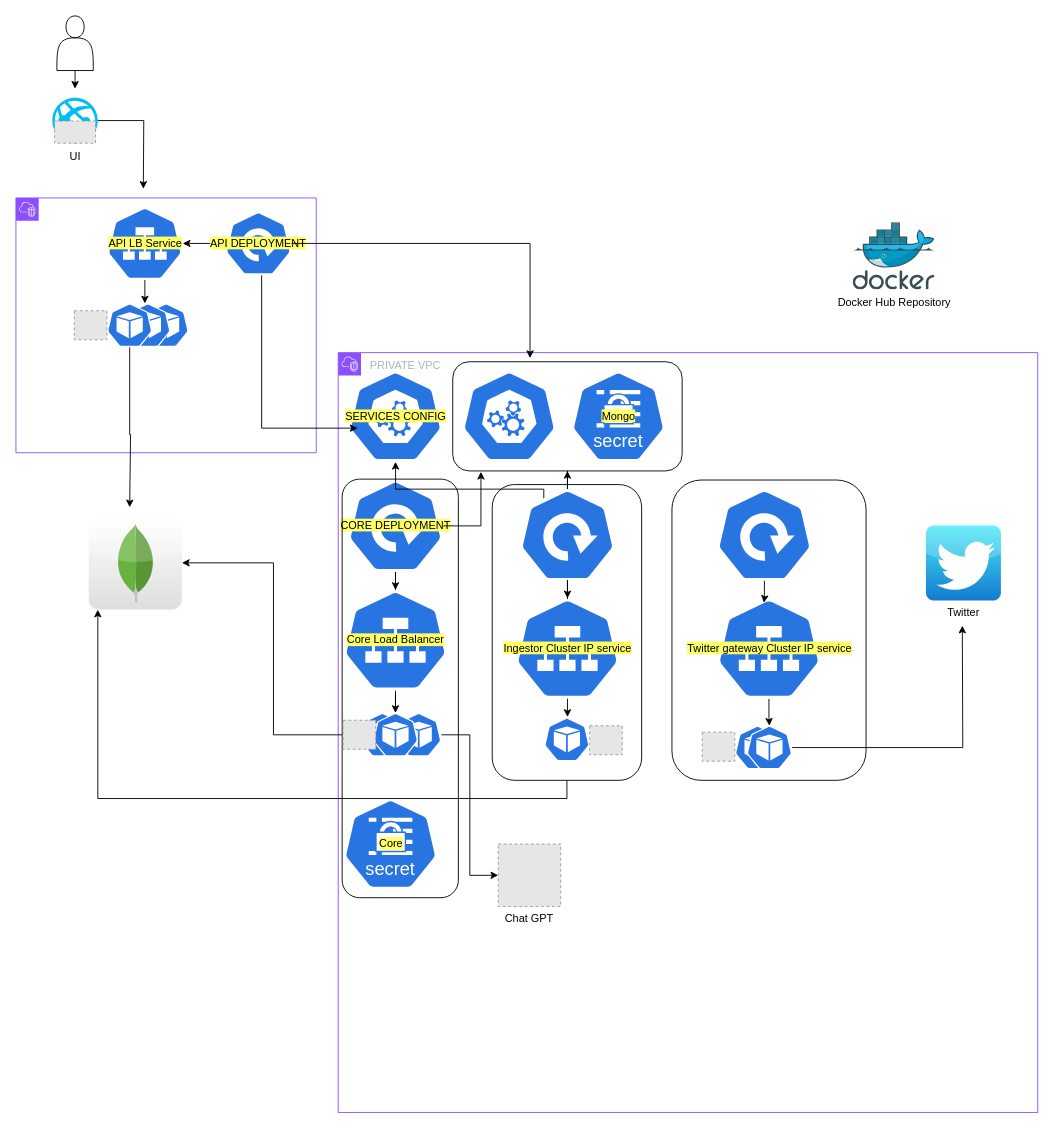
Some shapes in this 1054 by 1128 pixel diagram are drawn without their labels. Grey dashed boxes stand in for pictures. Here are the shapes that lost their labels. From the top down, the box of each, then its label:
(56, 15, 93, 71): User
(15, 197, 316, 453): PUBLIC VPC
(461, 370, 557, 462): MONGO CONFIG
(519, 488, 615, 581): INGESTOR DEPLOYMENT
(716, 488, 812, 581): TWITTER GATEWAY DEPLOYMENT
(88, 516, 182, 610): Mongo DB
